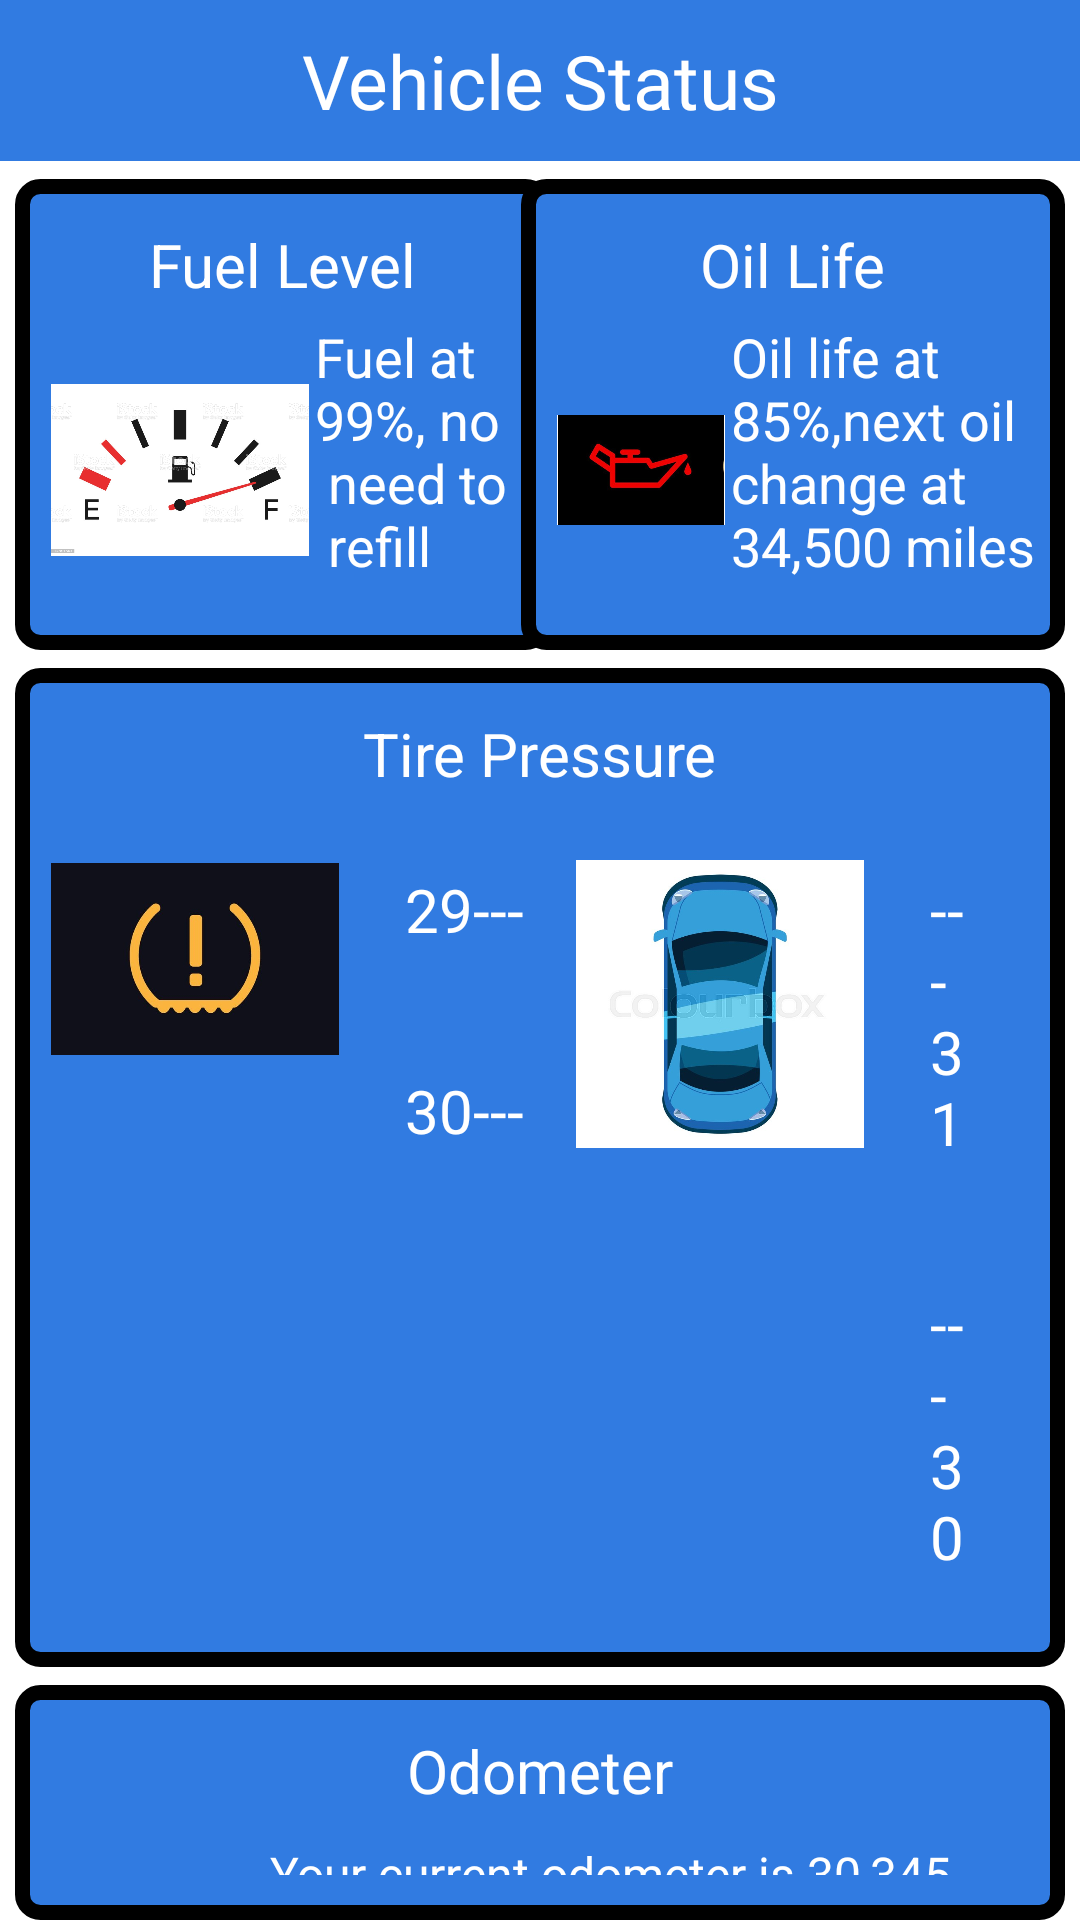

Icon click points for this 1080px×1920px phone screenshot, format (x,y):
Car: (720,1004)
